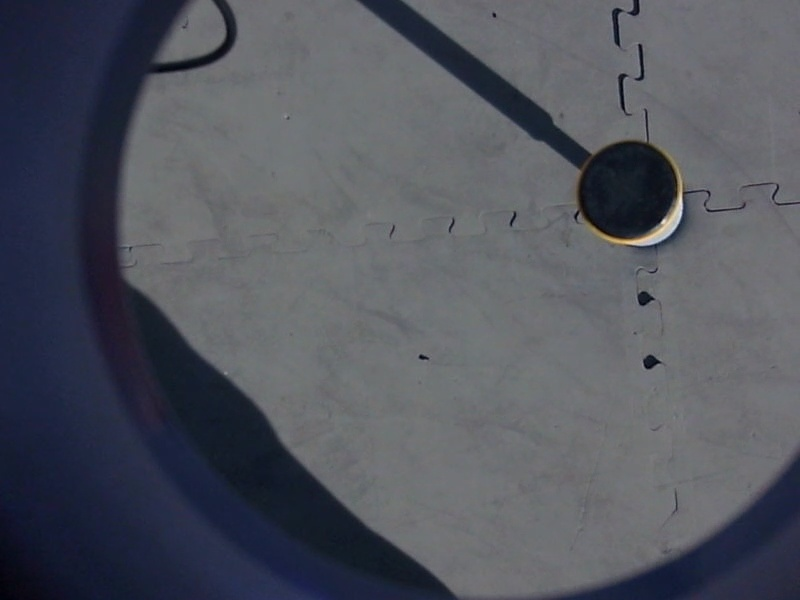tip: (571, 136, 687, 246)
